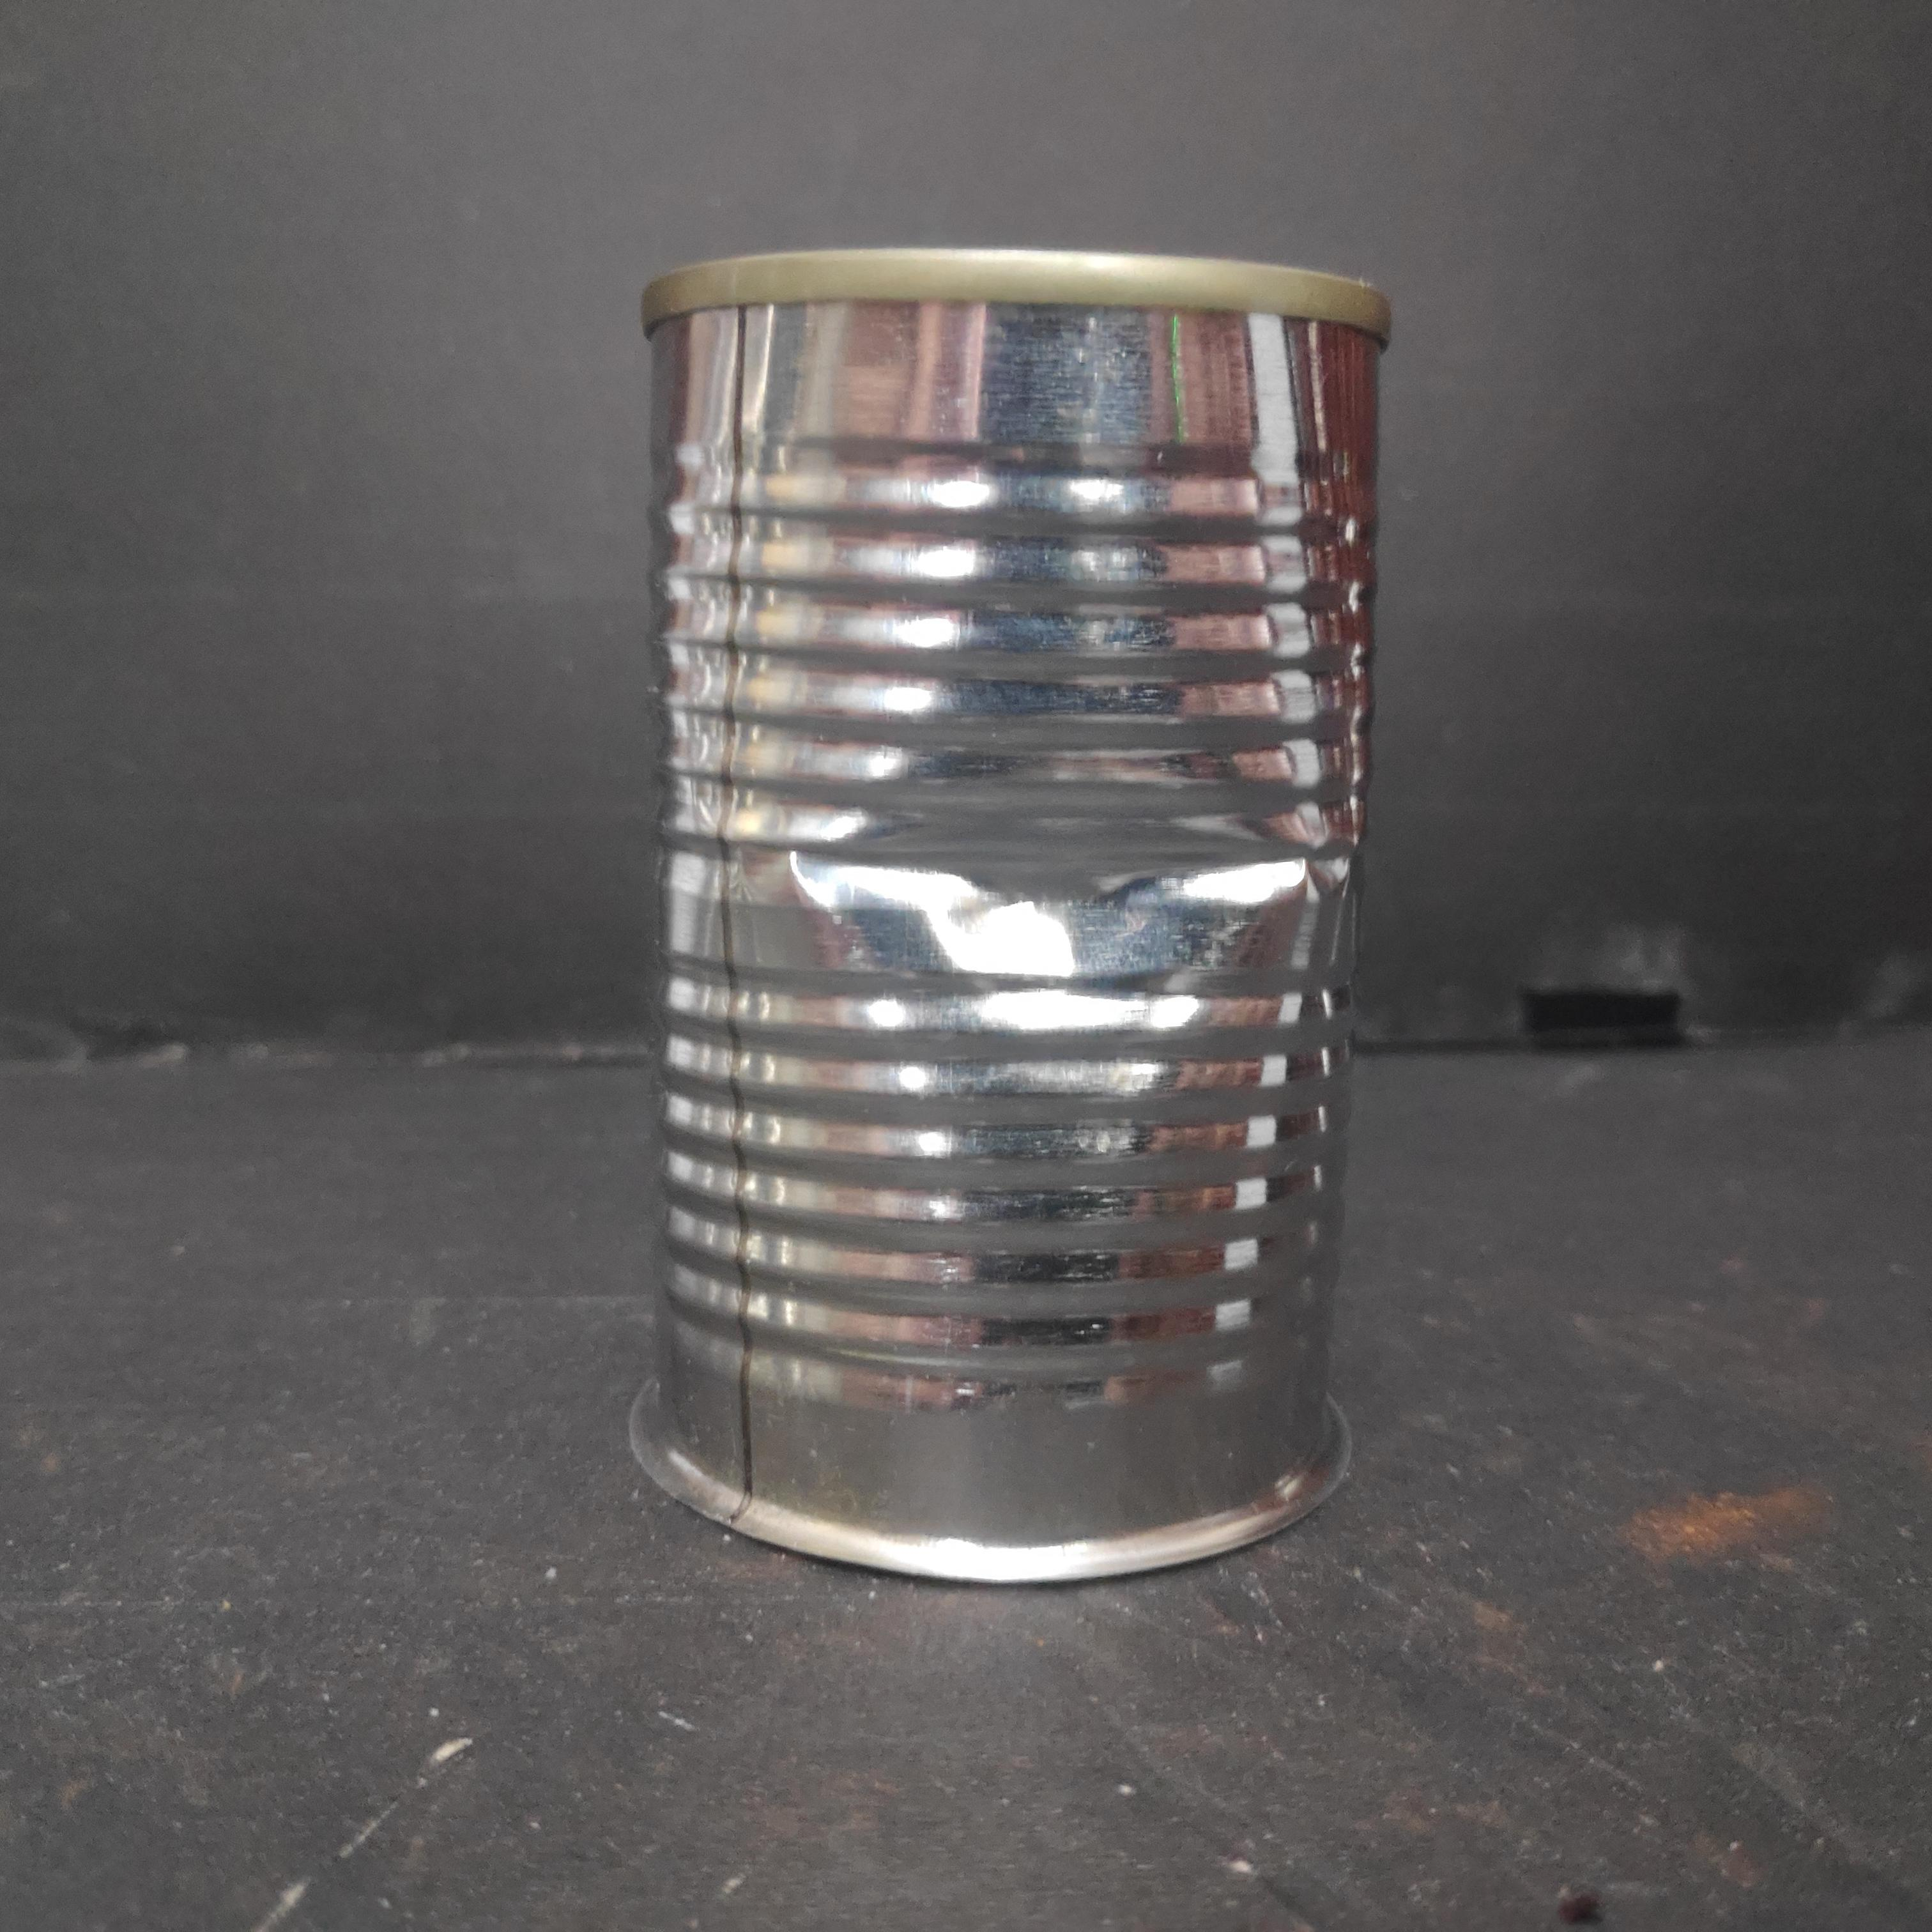Minor Defect: (617, 225, 1398, 1605)
